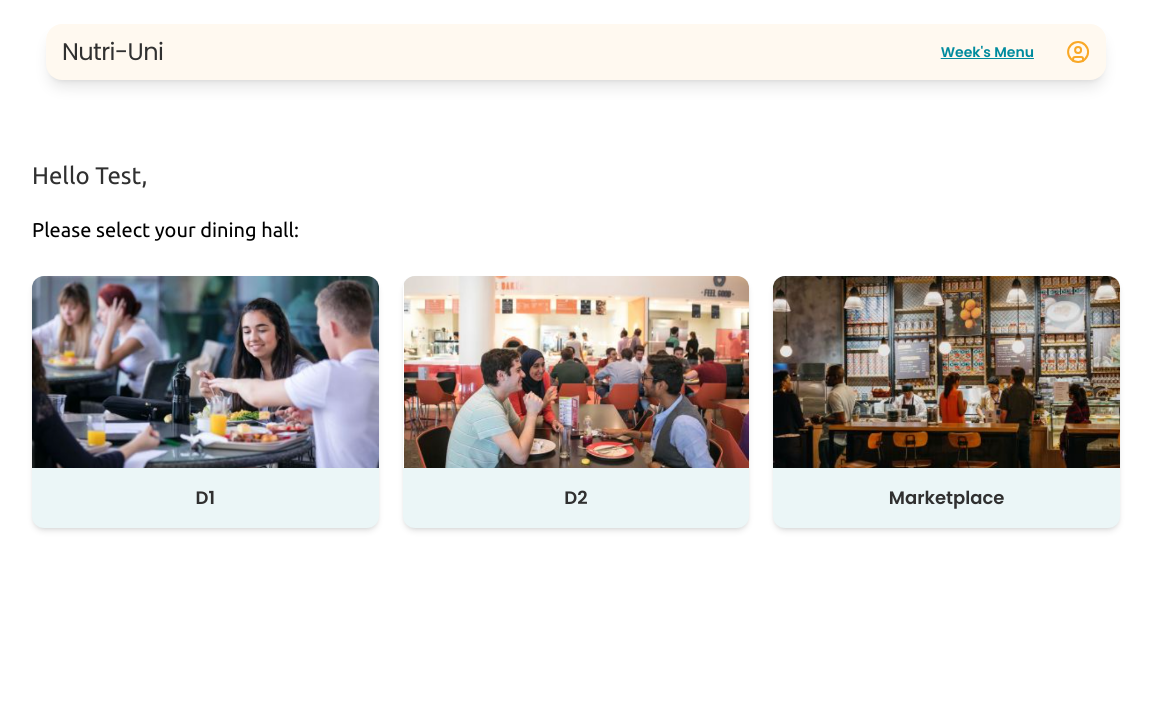
Test case: StudentDashboard › renders dashboard and filters meals
Expected: the heading "Hello Test," is shown, [32,162,147,189]
# Select Dining Hall
Click the text "D1".
click(205, 498)  # box [196,485,215,510]
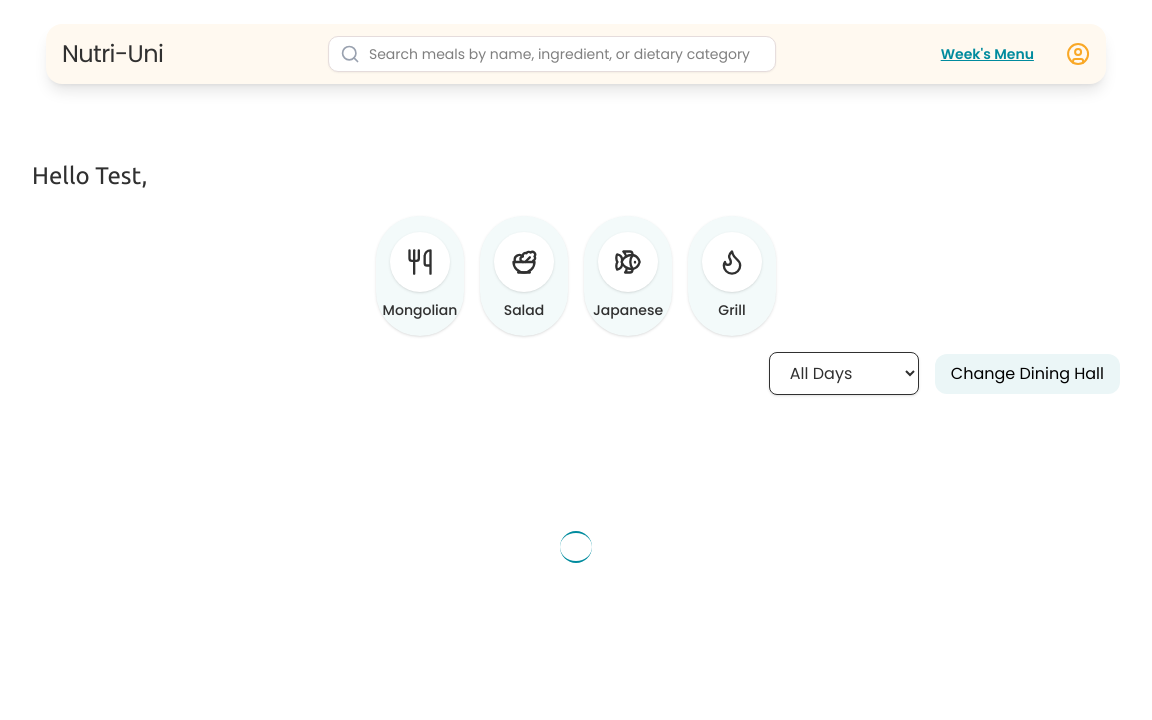
Expected: the text "Salad" is shown, [504,300,544,320]
# Select Counter
Click the button "Salad".
click(524, 276)  # box [480,216,568,336]
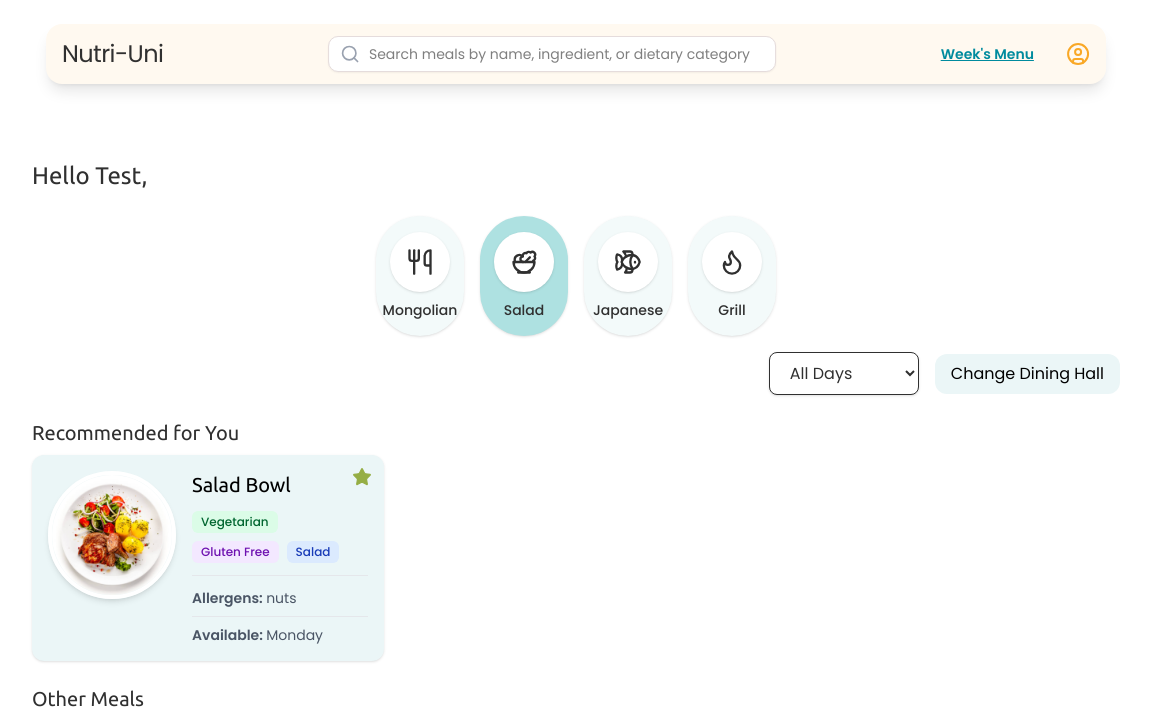
Expected: the heading "Salad Bowl" is shown, [192,473,291,496]
